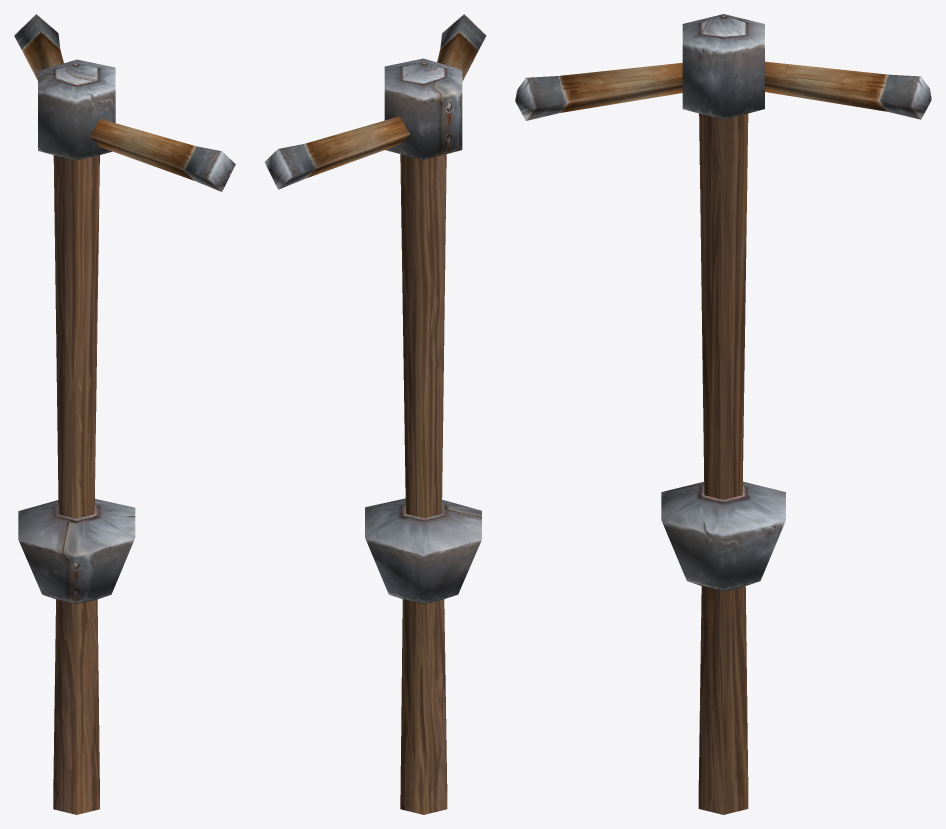
The model's file is excavationbannerstand.obj.
3 renders of one model, left to right at view 1: azimuth 30°, elevation 25°; view 2: azimuth 150°, elevation 25°; view 3: azimuth 270°, elevation 25°, orthographic. The views are drawn at different scales.
Visible parts, largest first — view 1: Geoset0, Geoset1, Geoset2; view 2: Geoset0, Geoset1, Geoset2; view 3: Geoset0, Geoset1, Geoset2.
Boxes of the visible parts, box(x1,y1,x2,y2) form: Geoset0: box(53, 155, 99, 814); Geoset1: box(14, 14, 235, 604); Geoset2: box(22, 32, 195, 180); Geoset0: box(400, 154, 447, 814); Geoset1: box(264, 14, 486, 604); Geoset2: box(305, 31, 478, 178); Geoset0: box(698, 113, 748, 814); Geoset1: box(515, 14, 931, 591); Geoset2: box(559, 61, 887, 113).
Bounding box in the file's own units: 0.8034 × 4.41 × 2.12.
3 materials, 3 textured.
